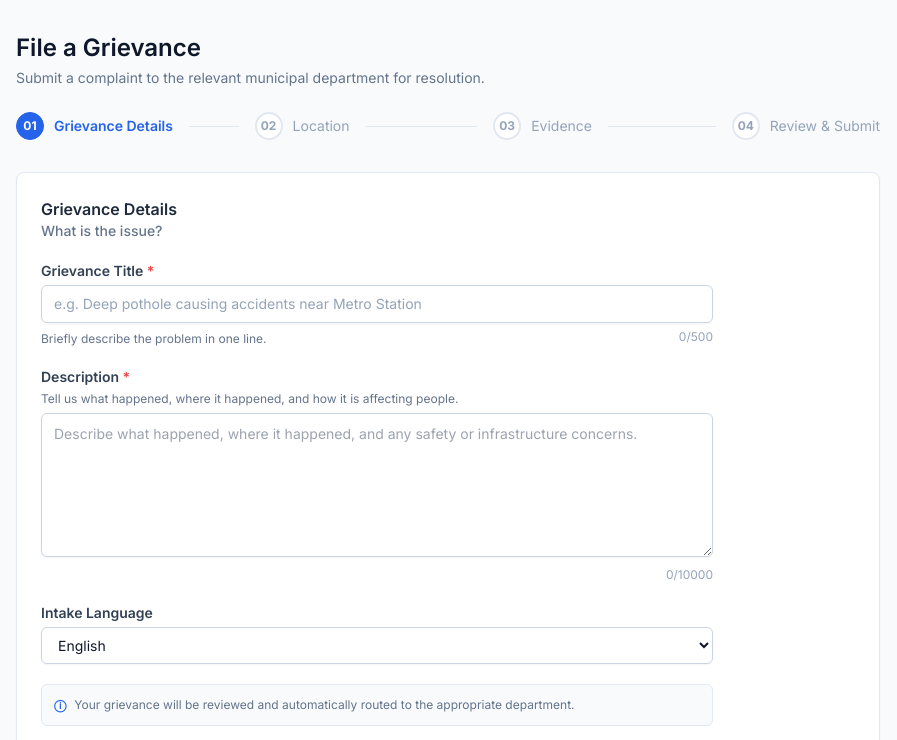
Citizen Complaint Form, Hinglish Support & Error Handling › displays network failure message when ApiError status is 0
This screenshot has width=897, height=740.
Type "Road leak" into the field with placeholder "e.g. Deep pothole causing accidents near Metro Station" at (377, 304), box [41,285,713,323]
Replace the text in the text box with placeholder "Describe what happened" with "Description" at (377, 485), box [41,413,713,557]
(page scrolled)
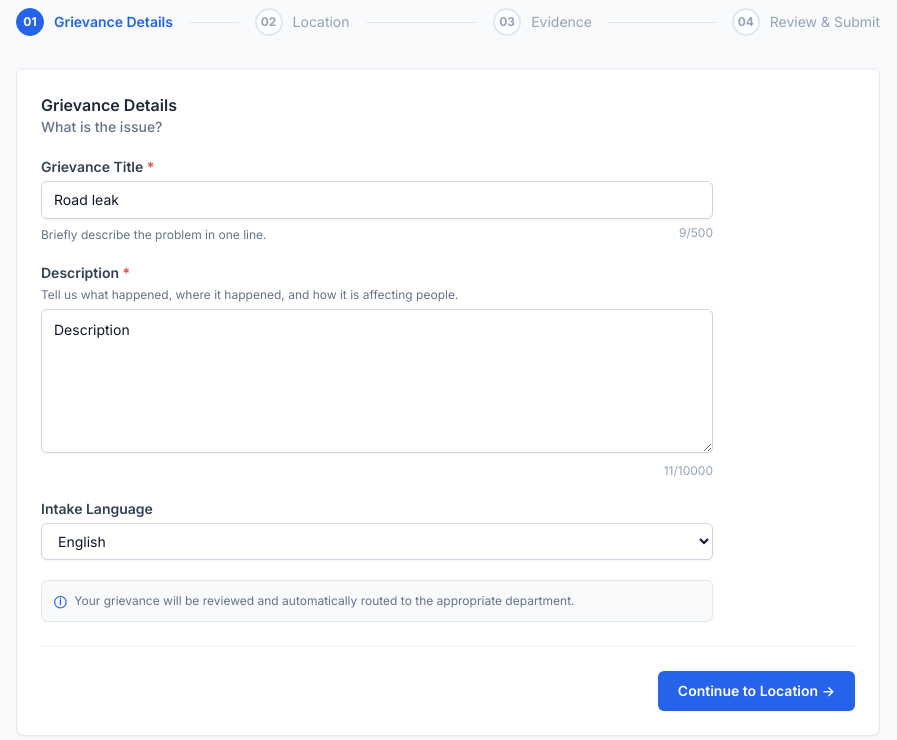
Click the button "Continue to Location →" at (756, 691), box [658,671,855,711]
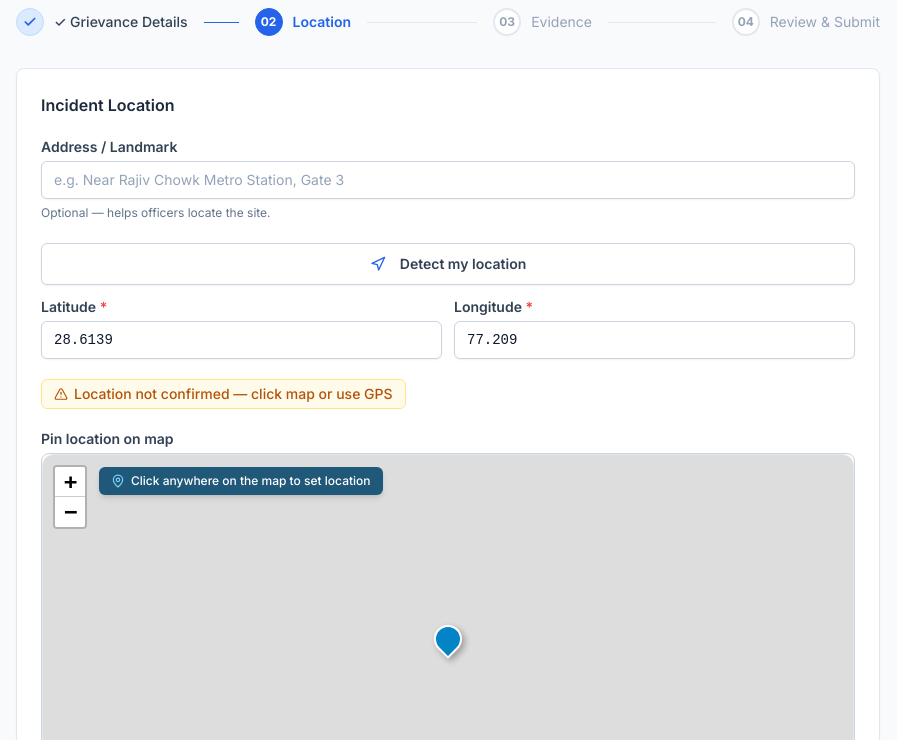
Replace the text in the number field labelled "Latitude *" with "28.6140" at (242, 340), box [41,321,442,359]
(page scrolled)
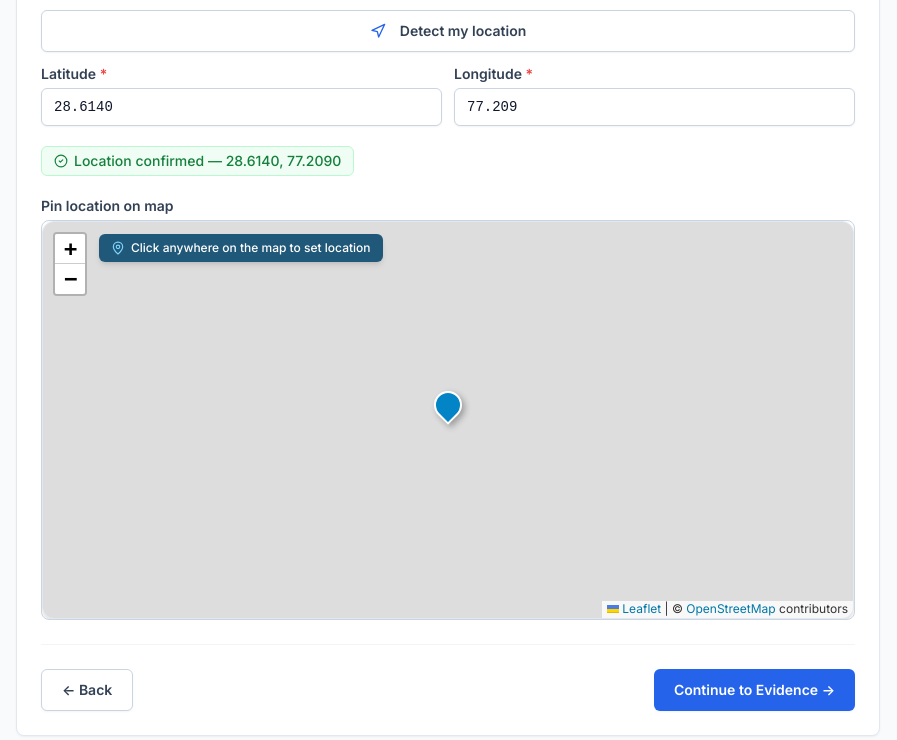
Click the button "Continue to Evidence →" at (754, 690), box [654,669,855,711]
(page scrolled)
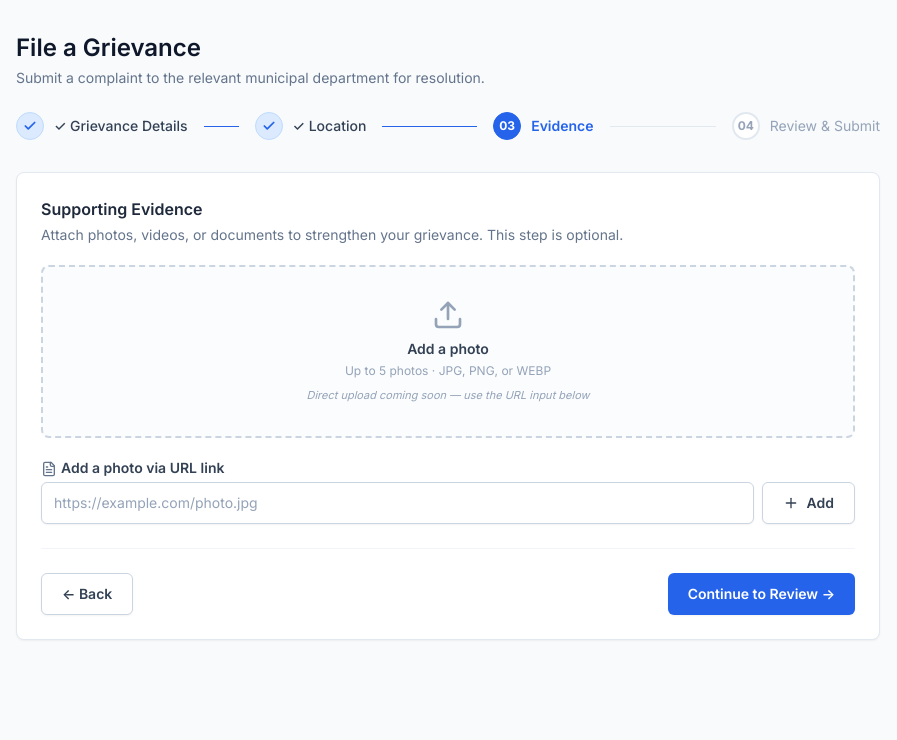
Click the button "Continue to Review →" at (761, 594), box [668,572,855,614]
(page scrolled)
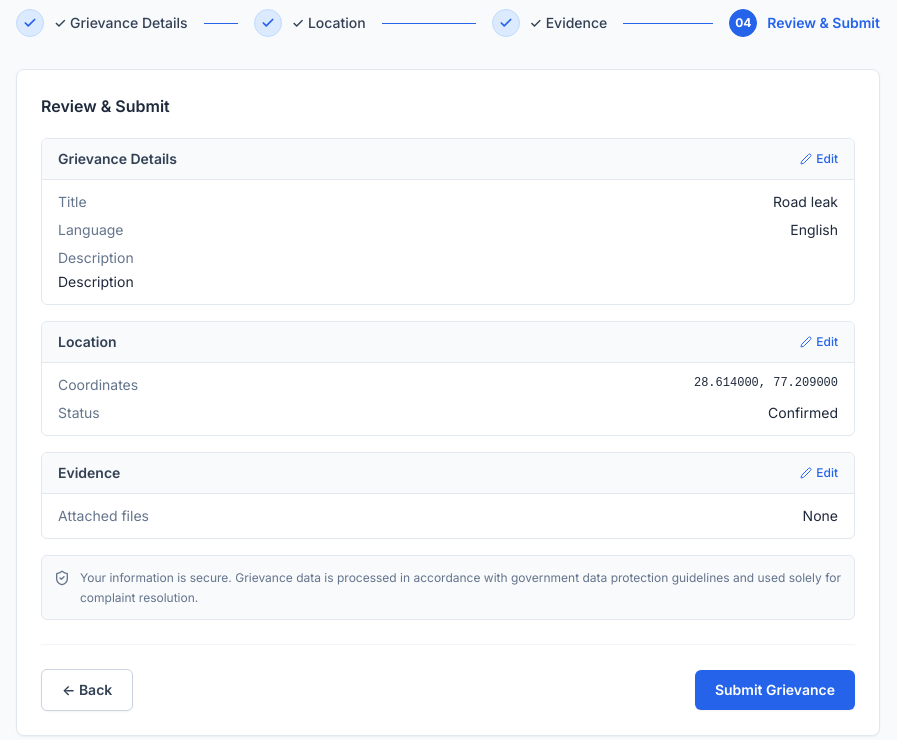
Click the button "Submit Grievance" at (775, 690), box [695,670,855,710]
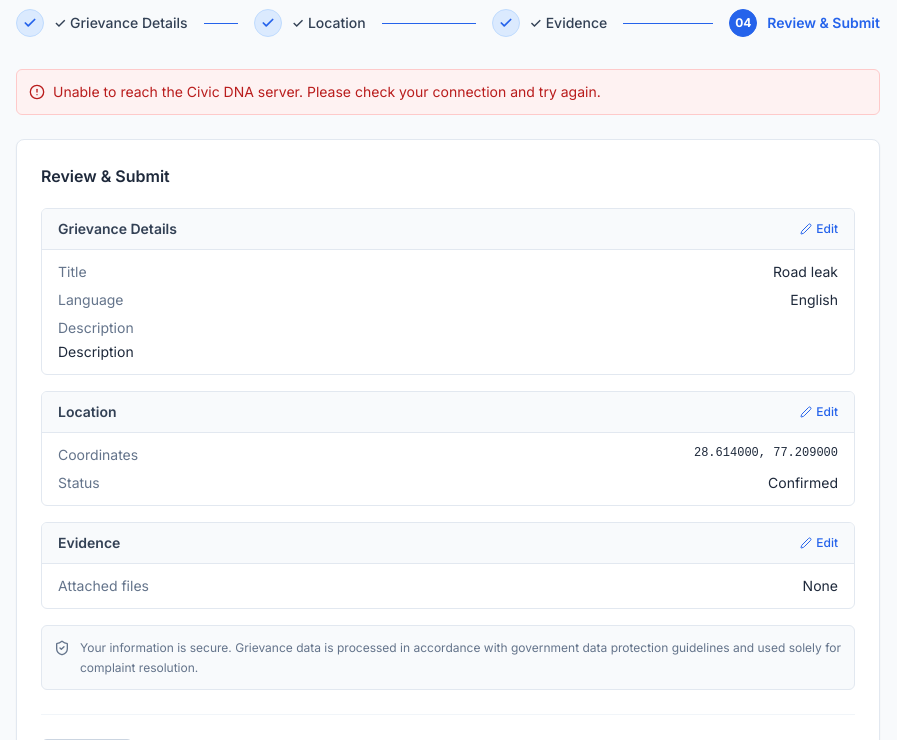
Now the text "Unable to reach the Civic DNA server" is shown, box [53,83,601,100]
